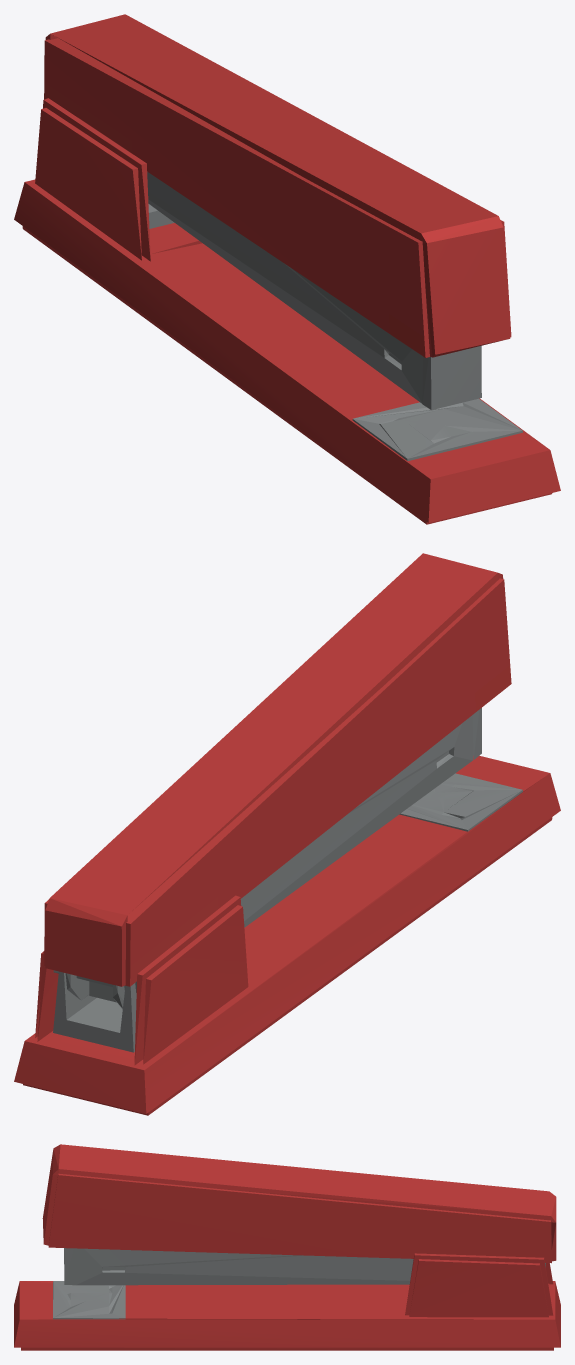
File: item_stapler.glb
3 views of the same model, one above another, from view 1: azimuth 30°, elevation 25°; view 2: azimuth 150°, elevation 25°; view 3: azimuth 270°, elevation 25° (orthographic). The views are drawn at different scales.
Parts seen in each view (by area): view 1: Office_Stapler_Red; view 2: Office_Stapler_Red; view 3: Office_Stapler_Red.
Boxes of the visible parts, bbox=[...] form: Office_Stapler_Red: bbox=[14, 14, 560, 524]; Office_Stapler_Red: bbox=[14, 553, 560, 1115]; Office_Stapler_Red: bbox=[14, 1144, 560, 1350].
Size of the model in its own units: 0.0611 by 0.1162 by 0.3315.
Materials: 1 (1 with a texture image).
